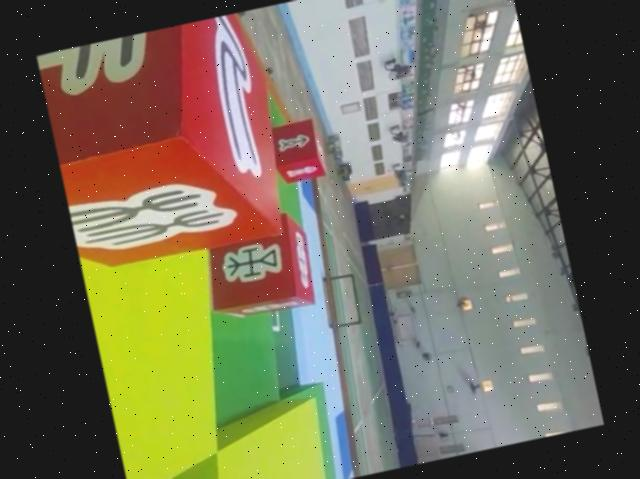R2 Fake: (36, 9, 299, 274)
R2 Real: (197, 210, 318, 324), (266, 112, 331, 184)
